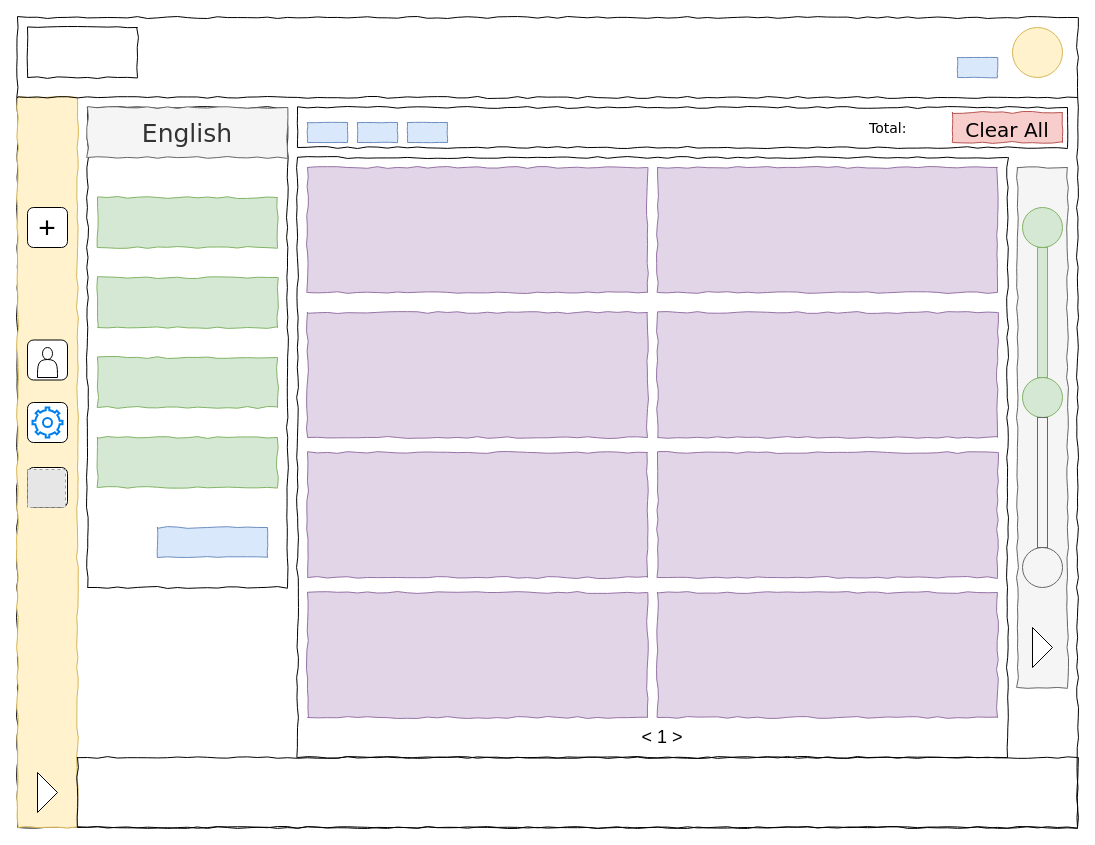
This 1095x845 diagram has some shape labels left out. Grey dashed boxes stand in for pictures. The centre of each missing label's shape, as x and y in pixels:
LOGO: point 82,52
US: point 1037,52
